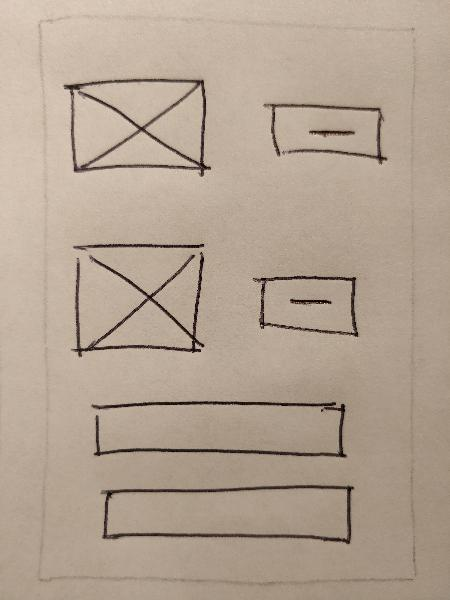button: (259, 92, 396, 172), (246, 261, 368, 346)
image: (67, 235, 210, 365), (61, 75, 225, 187)
text_input: (85, 386, 350, 465), (92, 481, 358, 550)
